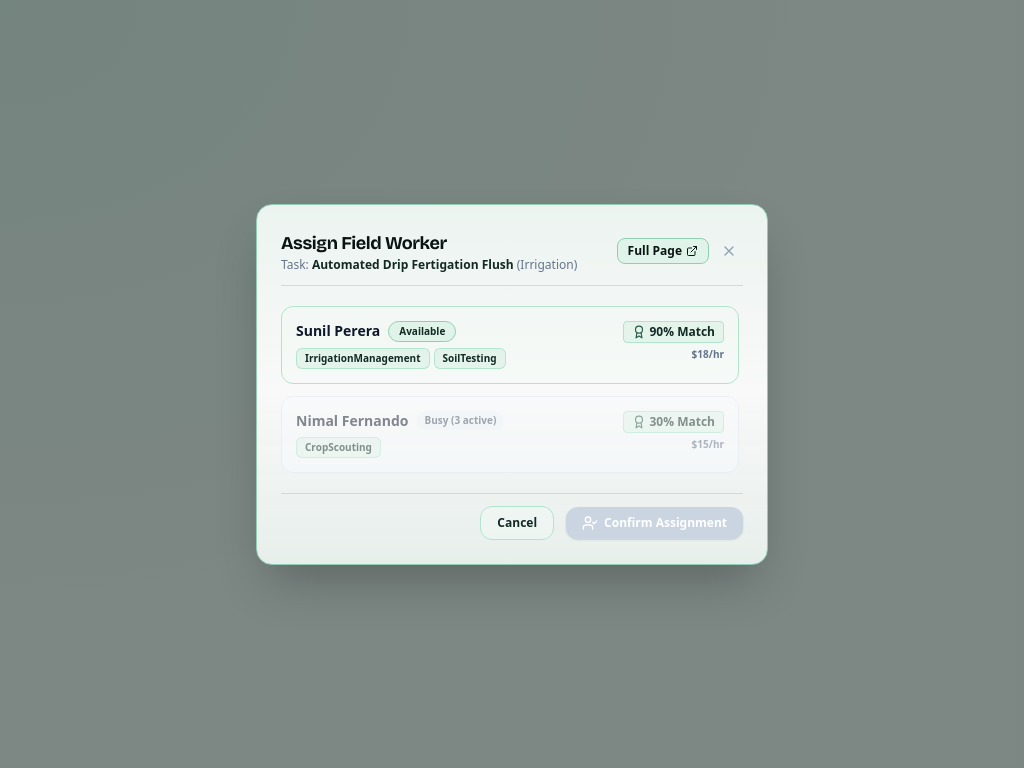
TaskAssignModal Component (Worker Assignment & Decision Logic) › keeps Confirm Assignment button disabled until a worker is selected
Expected: the button "Confirm Assignment" is disabled, [566,506,743,538]
// Select Sunil Perera
What coordinates should you click on to do the following:
click the text "Sunil Perera"
I would click on:
 (338, 331)
Its box is [296,321,380,341].
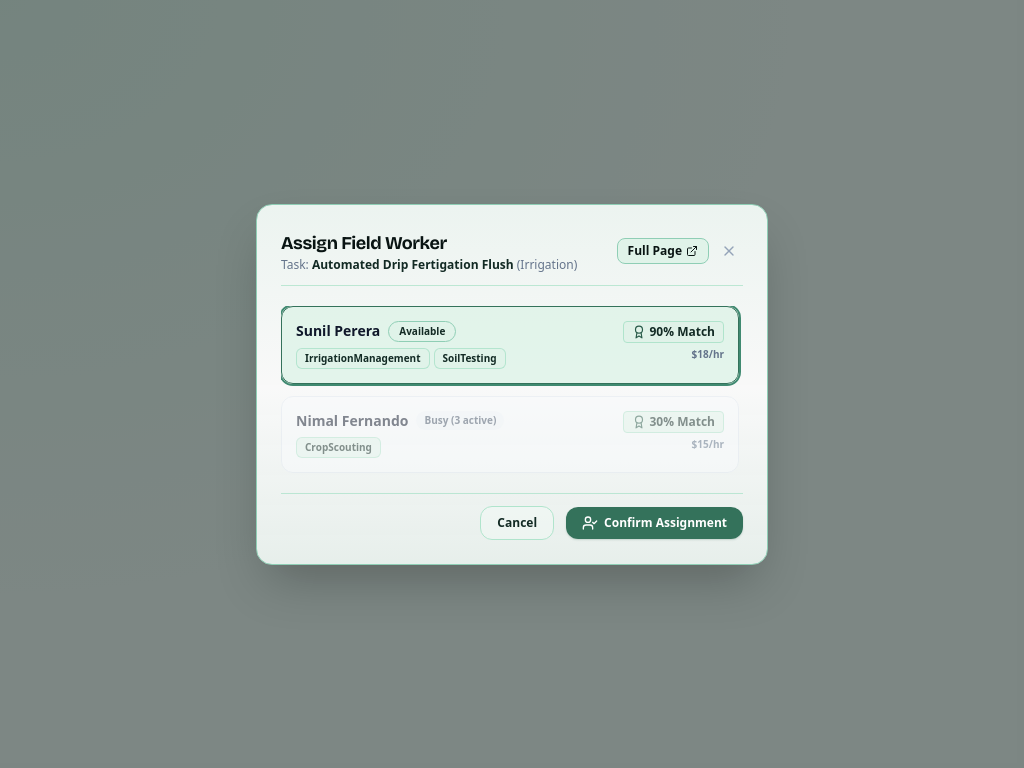
Expected: the button "Confirm Assignment" is enabled, [566,506,743,538]
